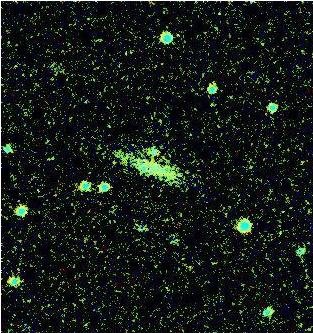star: (128, 152, 158, 182)
